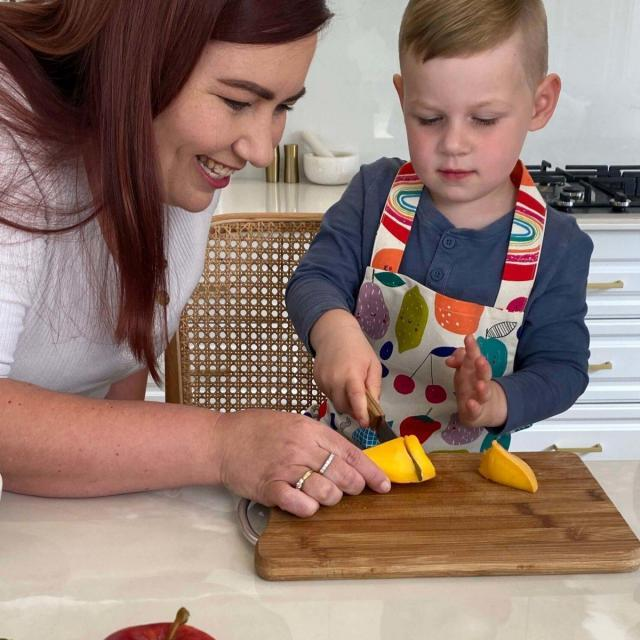child: (284, 3, 592, 486)
